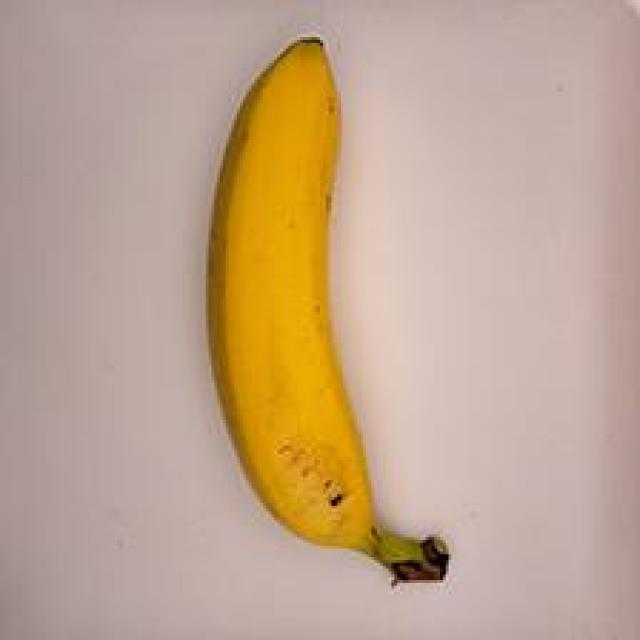Ripe: (168, 26, 473, 614)
